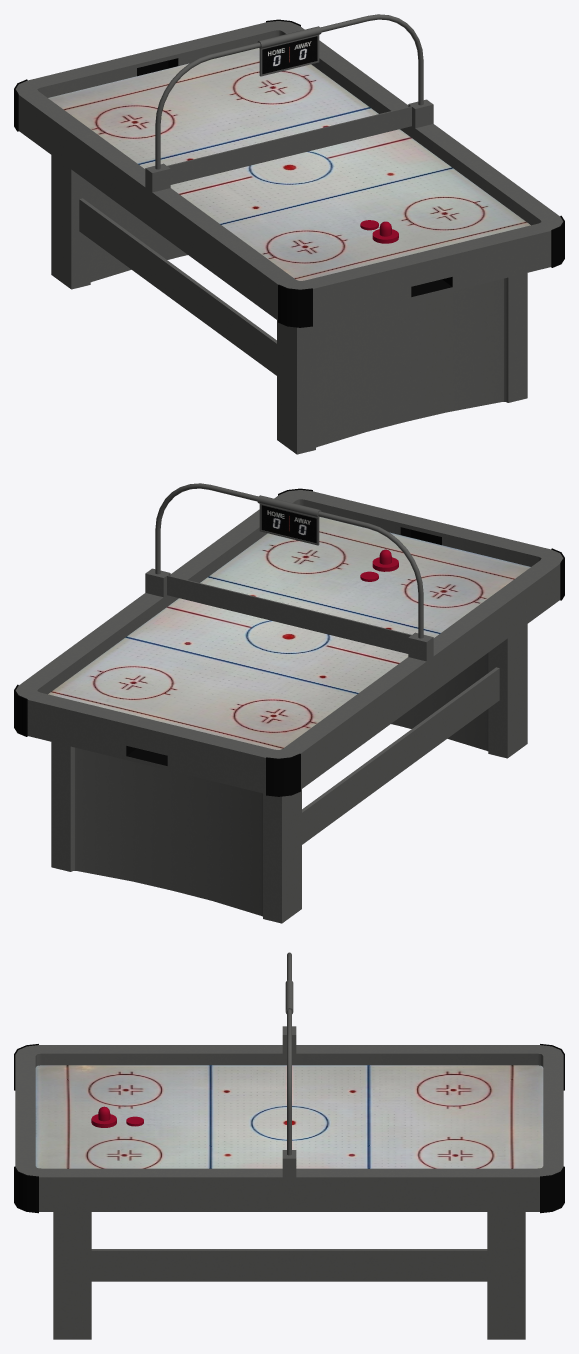
The model's file is air_hockey.fbx.
3 renders of one model, top to bottom at view 1: azimuth 30°, elevation 25°; view 2: azimuth 150°, elevation 25°; view 3: azimuth 270°, elevation 25°, orthographic. The views are drawn at different scales.
Visible parts, largest first — view 1: table_air_hockey; view 2: table_air_hockey; view 3: table_air_hockey.
Part boxes in pixels (<box>): table_air_hockey: <box>14,14,564,454</box>; table_air_hockey: <box>14,483,564,923</box>; table_air_hockey: <box>14,952,564,1339</box>.
Size of the model in its own units: 123 by 125 by 215.
